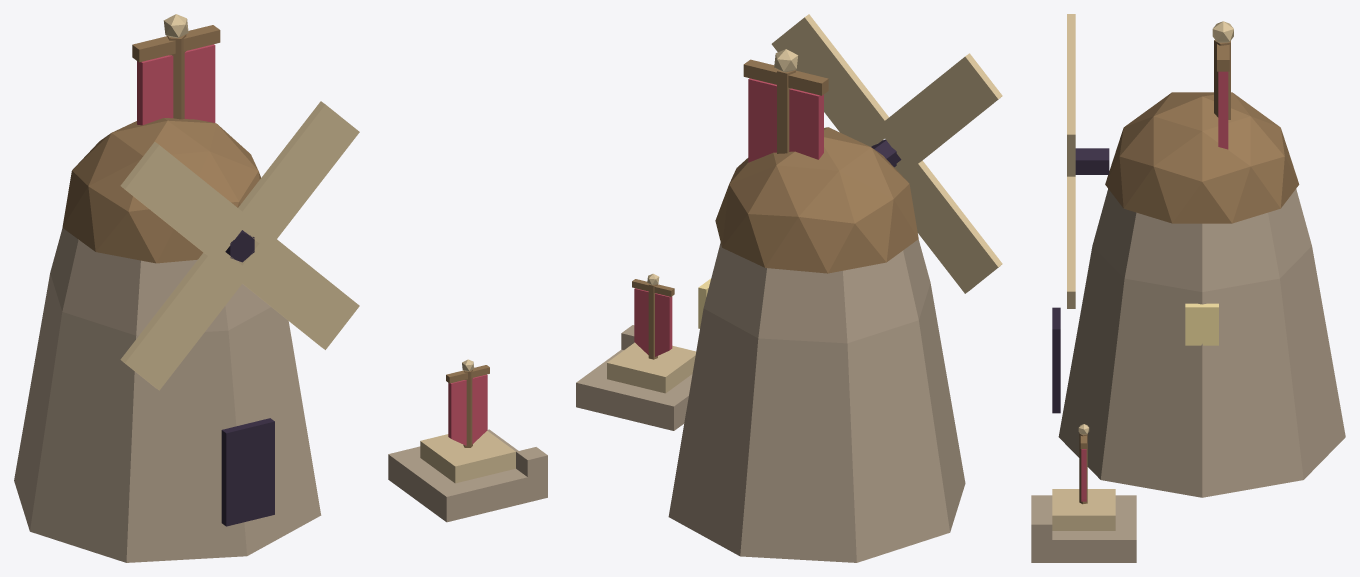
Rendered from medieval-landmark-s2b.glb.
3 renders of one model, left to right at view 1: azimuth 30°, elevation 25°; view 2: azimuth 150°, elevation 25°; view 3: azimuth 270°, elevation 25°, orthographic. The views are drawn at different scales.
Parts seen in each view (by area): view 1: medieval-landmark-s2b; view 2: medieval-landmark-s2b; view 3: medieval-landmark-s2b.
Part boxes in pixels (bbox=[...]): medieval-landmark-s2b: bbox=[14, 14, 547, 562]; medieval-landmark-s2b: bbox=[576, 14, 1002, 562]; medieval-landmark-s2b: bbox=[1031, 14, 1345, 562].
Size of the model in its own units: 1.04 by 1.11 by 0.745.
